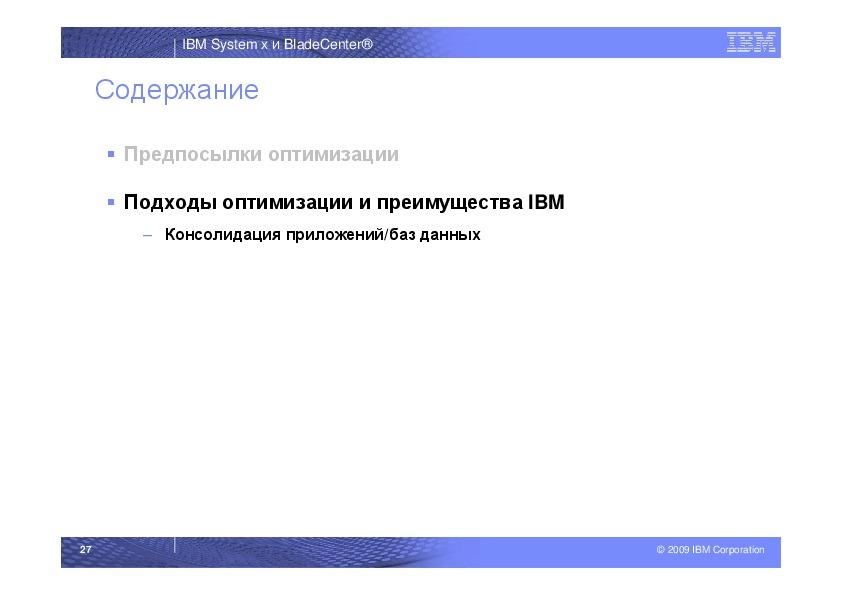paragraph: (83, 127, 713, 328)
subtitle: (78, 70, 289, 112)
title: (177, 29, 400, 57)
